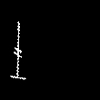treble_crochet: (11, 22, 25, 78)
